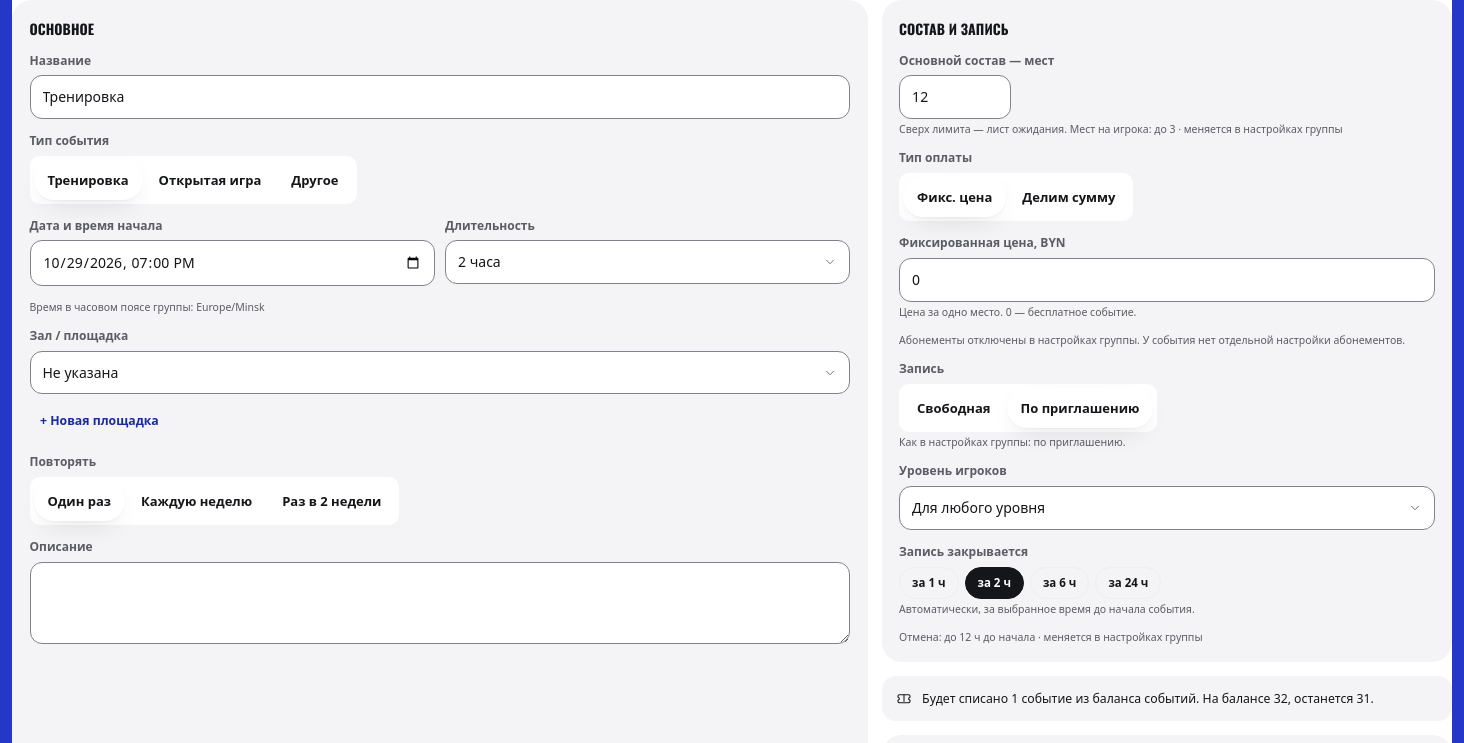
Test: create a single event › marks a join mode that differs from the group and returns to the group value
Replace the text in the field with id "ev-start" with "2030-06-08T19:00" at (232, 263), box [30,240,434,286]
Wait 400 ms
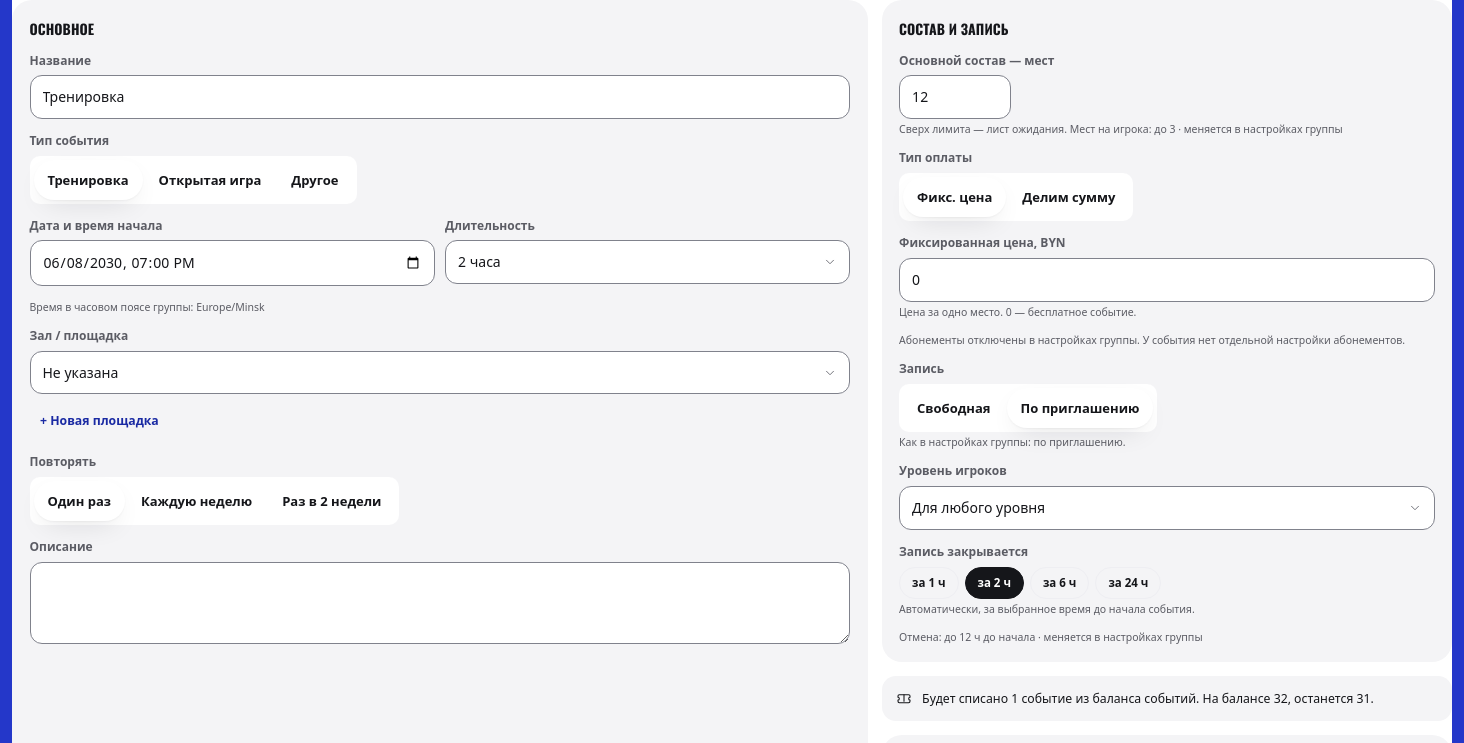
Expected: the text "только для этого события" is not shown
Click the radio button labelled "Свободная" at (954, 408), box [903,388,1004,428]
Wait 400 ms
(page scrolled)
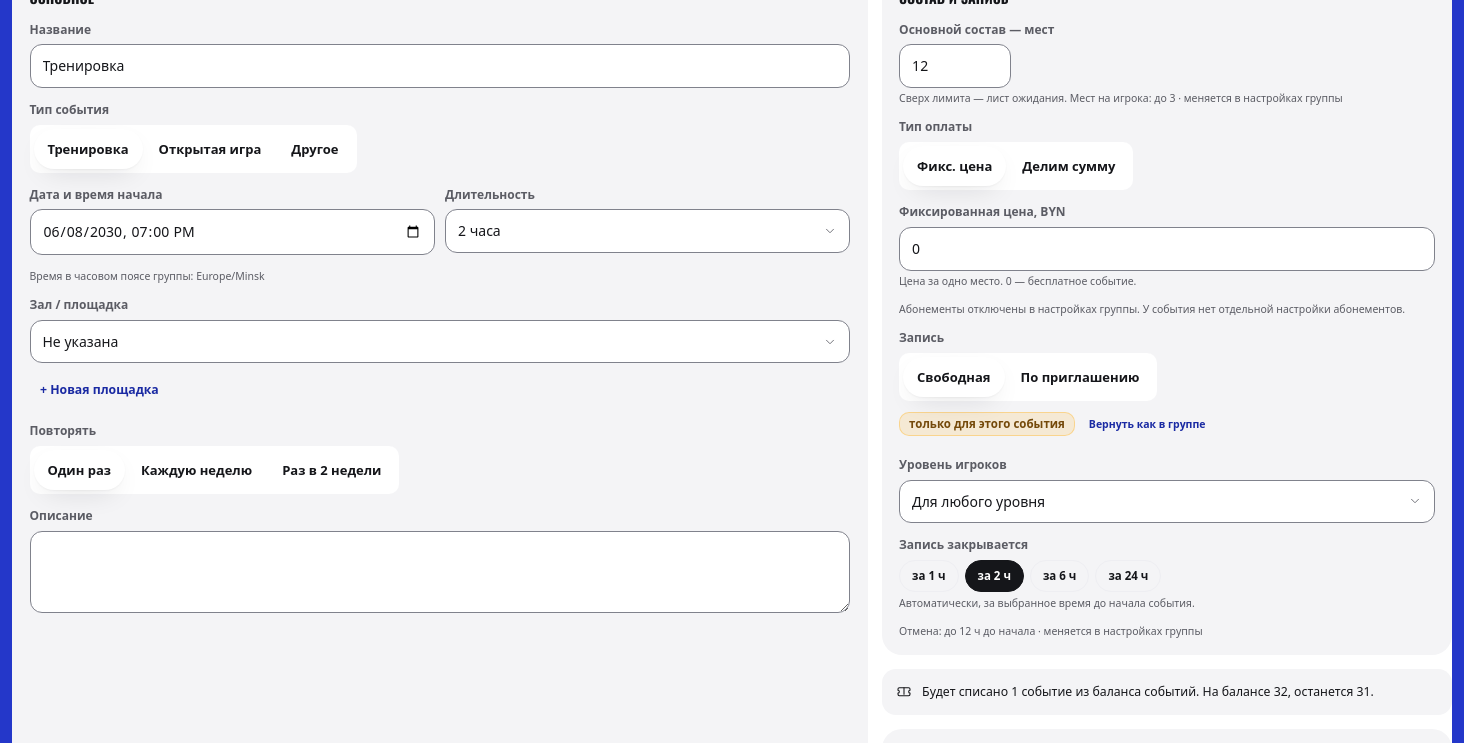
Now the text "только для этого события" is shown, box [899,412,1075,436]
Submit the form
Click the button "Вернуть как в группе" at (1147, 424), box [1082,404,1212,443]
Wait 400 ms
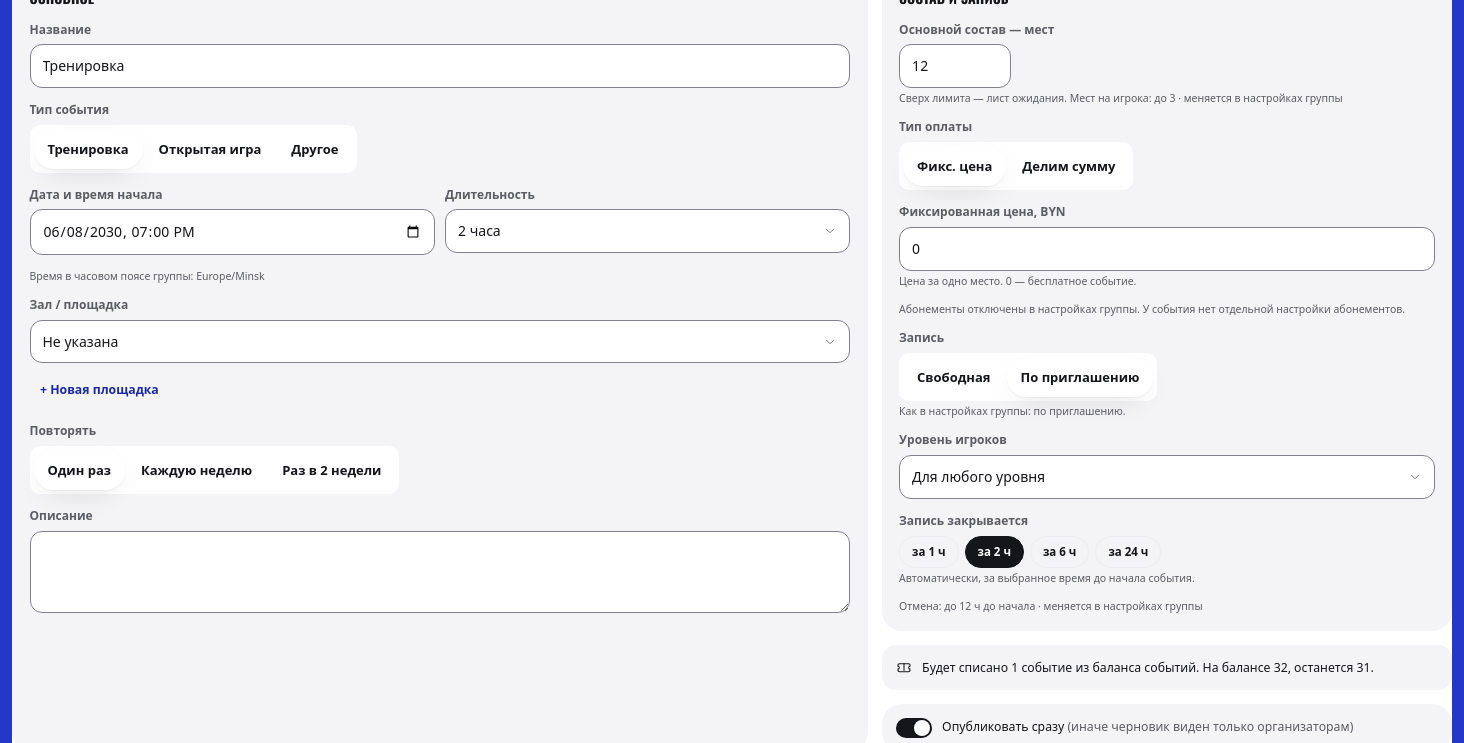
Now the text "только для этого события" is gone
